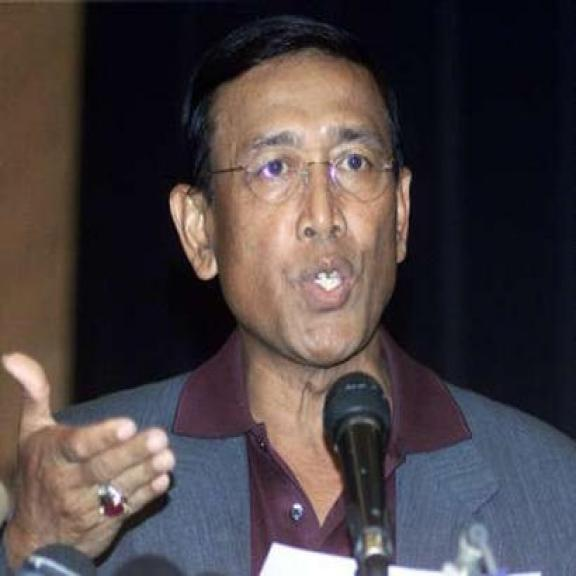face: (171, 57, 416, 368)
